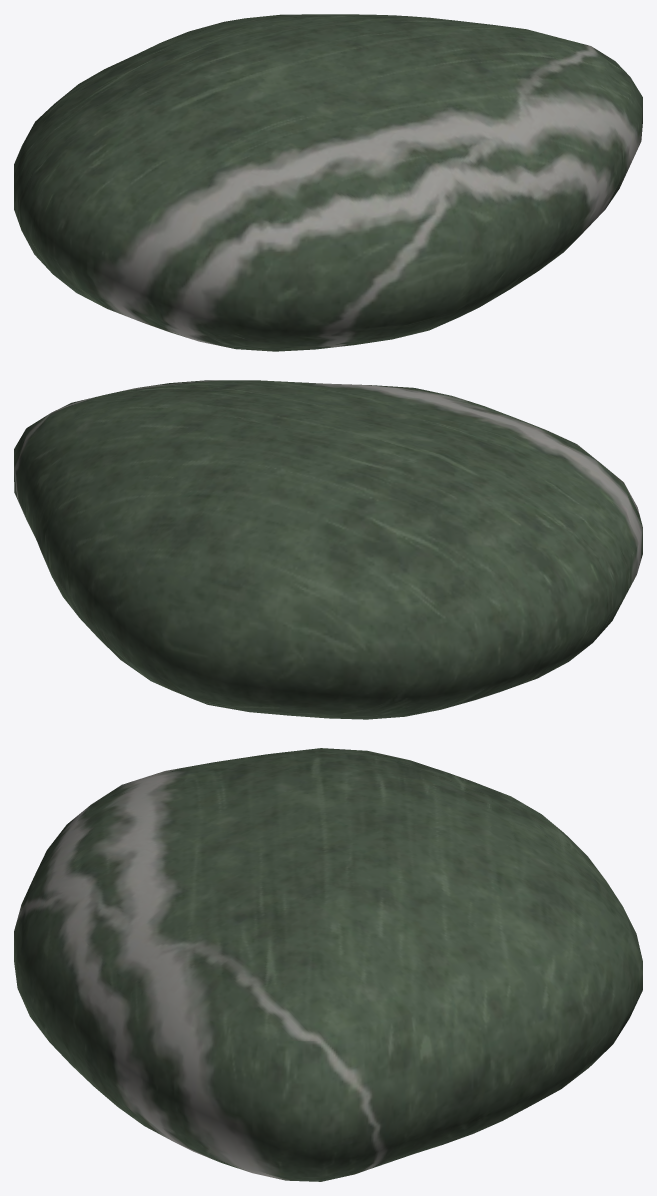
The model's file is quartz_cobble_07.glb.
3 renders of one model, top to bottom at view 1: azimuth 30°, elevation 25°; view 2: azimuth 150°, elevation 25°; view 3: azimuth 270°, elevation 25°, orthographic. The views are drawn at different scales.
Parts seen in each view (by area): view 1: quartz_cobble_07; view 2: quartz_cobble_07; view 3: quartz_cobble_07.
Boxes of the visible parts, <box> form: quartz_cobble_07: <box>14,14,642,351</box>; quartz_cobble_07: <box>14,380,642,719</box>; quartz_cobble_07: <box>14,748,642,1181</box>.
Bounding box in the file's own units: 0.0706 × 0.0277 × 0.057.
Materials: 1 (1 with a texture image).
